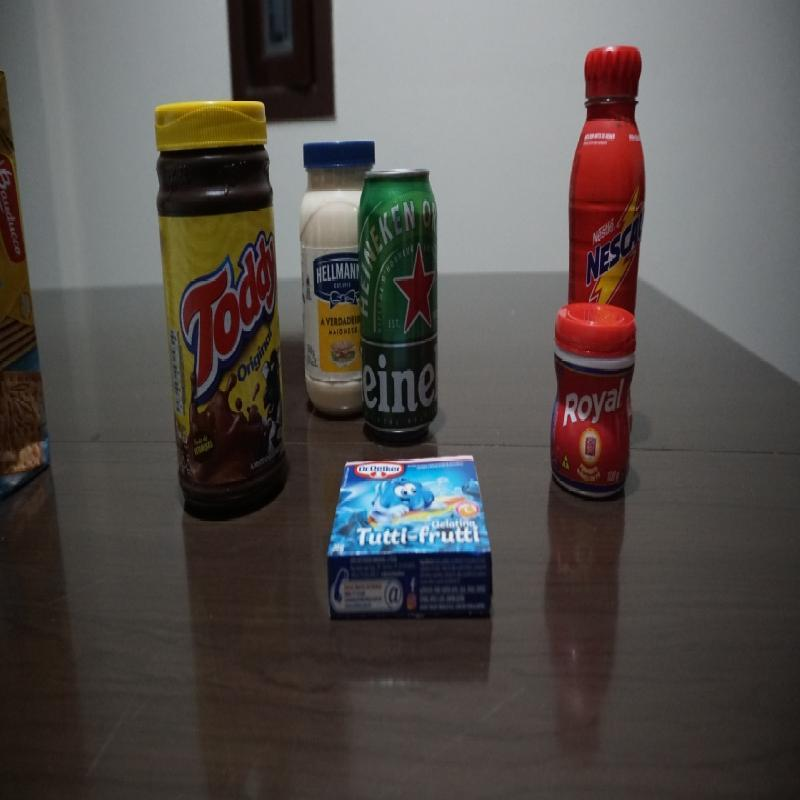Beer can: (355, 169, 440, 439)
Chocolate Milk: (570, 47, 647, 310)
Chocolate Powder: (153, 100, 291, 512)
Cracker: (0, 67, 58, 505)
Gelatine: (336, 454, 493, 625)
Mayonnaise: (297, 131, 368, 426)
Yeast: (553, 303, 635, 496)
